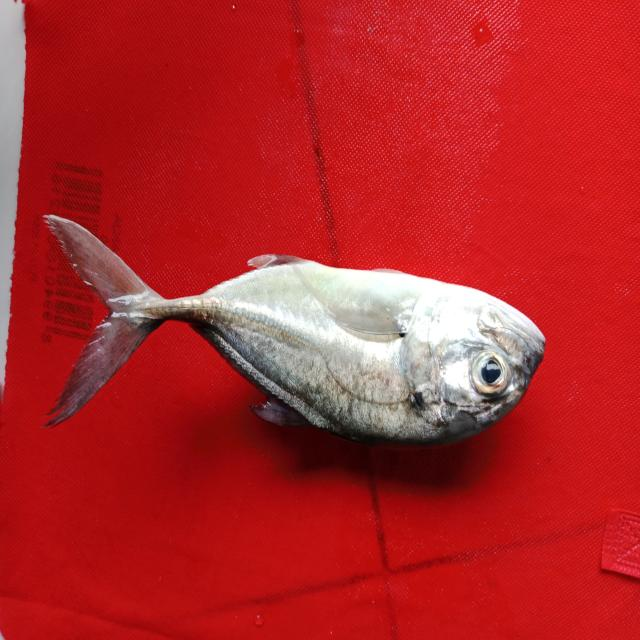ikan: (31, 192, 557, 469)
